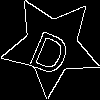D: (26, 21, 77, 77)
